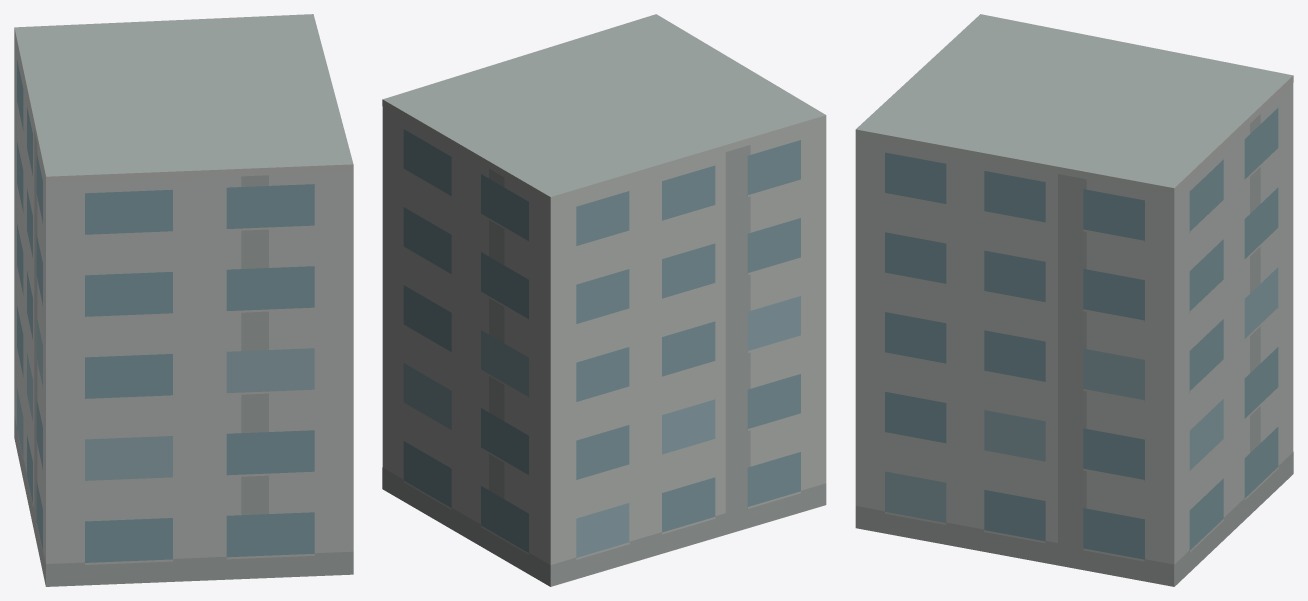
Rendered from survey-upis-32679759.glb.
3 views of the same model, side by side, from view 1: azimuth 30°, elevation 25°; view 2: azimuth 150°, elevation 25°; view 3: azimuth 270°, elevation 25° (orthographic). The views are drawn at different scales.
Parts seen in each view (by area): view 1: survey-upis-32679759.tmp; view 2: survey-upis-32679759.tmp; view 3: survey-upis-32679759.tmp.
Part boxes in pixels (x1=…): survey-upis-32679759.tmp: x1=14, y1=14, x2=353, y2=586; survey-upis-32679759.tmp: x1=382, y1=14, x2=826, y2=586; survey-upis-32679759.tmp: x1=855, y1=14, x2=1293, y2=586.
Size of the model in its own units: 12.47 by 13.3 by 13.25.
